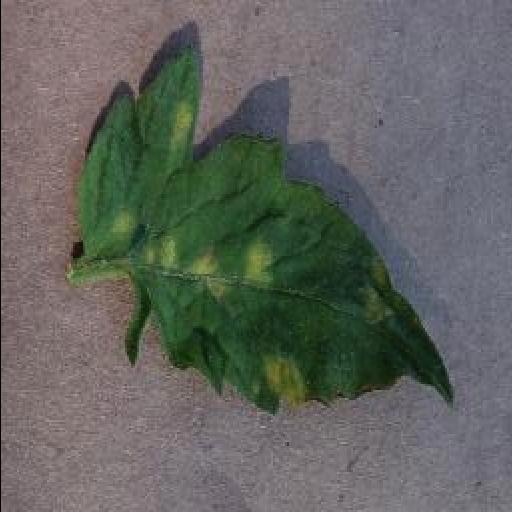disease_tomato: (82, 48, 458, 414)
